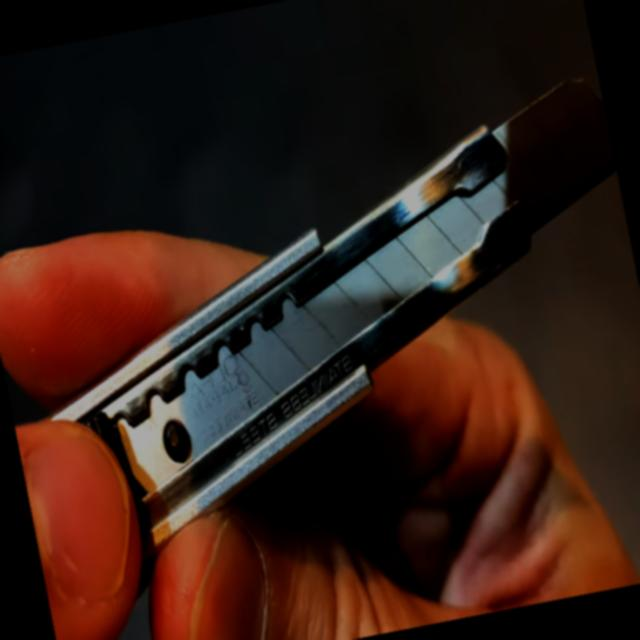cutter: (0, 13, 640, 617)
